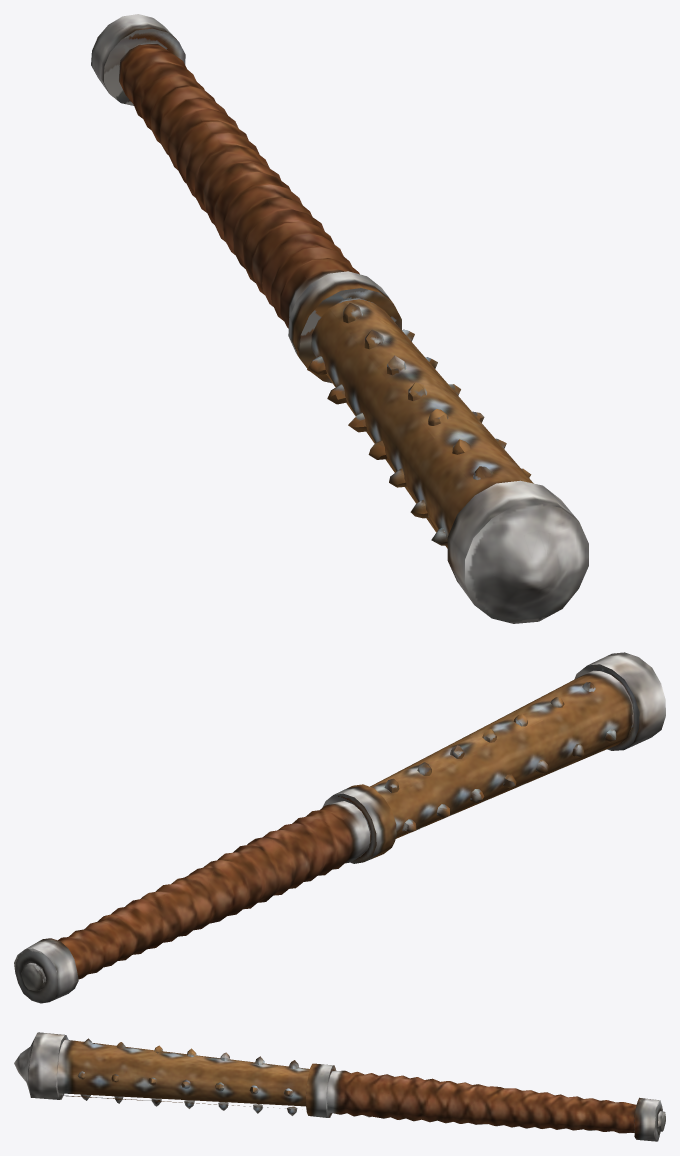
Rendered from item_mm9_10068.glb.
The picture shows the model from 3 angles, top to bottom: view 1: azimuth 30°, elevation 25°; view 2: azimuth 150°, elevation 25°; view 3: azimuth 270°, elevation 25°; orthographic projection. The views are drawn at different scales.
Visible parts, largest first — view 1: d10068; view 2: d10068; view 3: d10068.
Boxes of the visible parts, x1,y1,x2,y2 form: d10068: [91, 14, 588, 623]; d10068: [14, 652, 665, 1003]; d10068: [14, 1032, 665, 1141].
Size of the model in its own units: 0.2771 by 0.0984 by 0.9809.
Materials: 1 (1 with a texture image).
